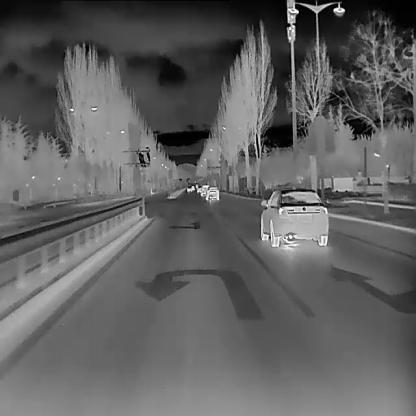car: (259, 187, 329, 247), (204, 185, 219, 201), (200, 184, 210, 195), (186, 184, 192, 191), (196, 185, 201, 193), (191, 185, 194, 190), (194, 180, 196, 182)
